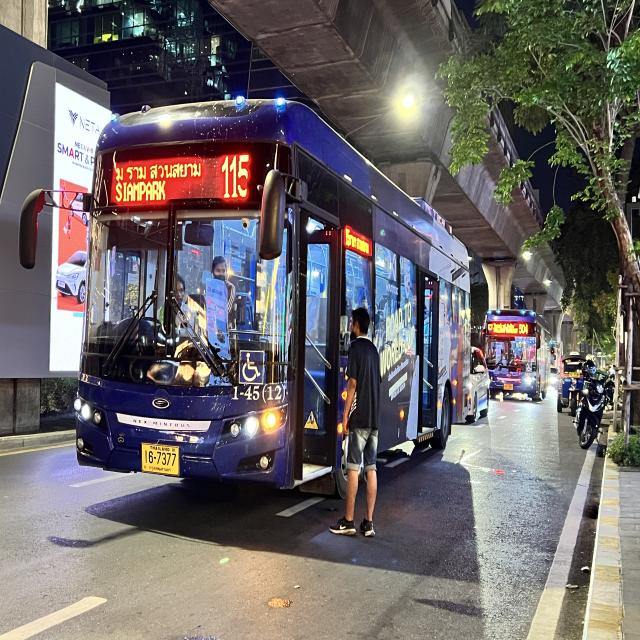Bus-Line-Number: (218, 146, 251, 201), (518, 321, 528, 337)
Destination-Sign-Normal: (112, 154, 205, 207), (491, 322, 518, 336)
TSB-Bus: (70, 87, 475, 529), (483, 302, 552, 402)
